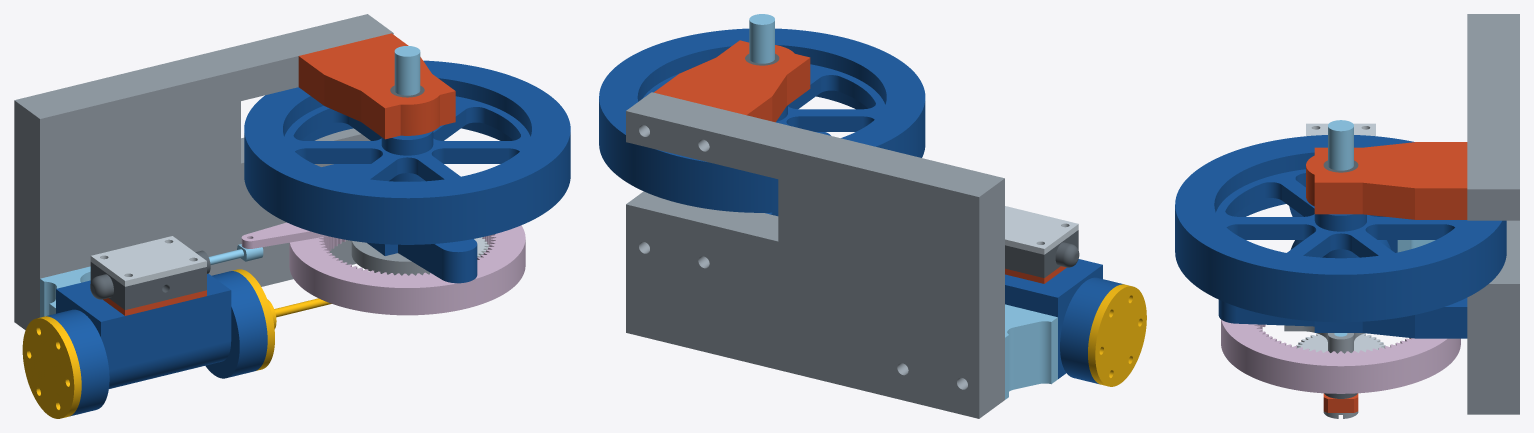
File: steamengine.dae
3 renders of one model, left to right at view 1: azimuth 30°, elevation 25°; view 2: azimuth 150°, elevation 25°; view 3: azimuth 270°, elevation 25°, orthographic.
Bounding box in the file's own units: 134 × 71 × 79.
